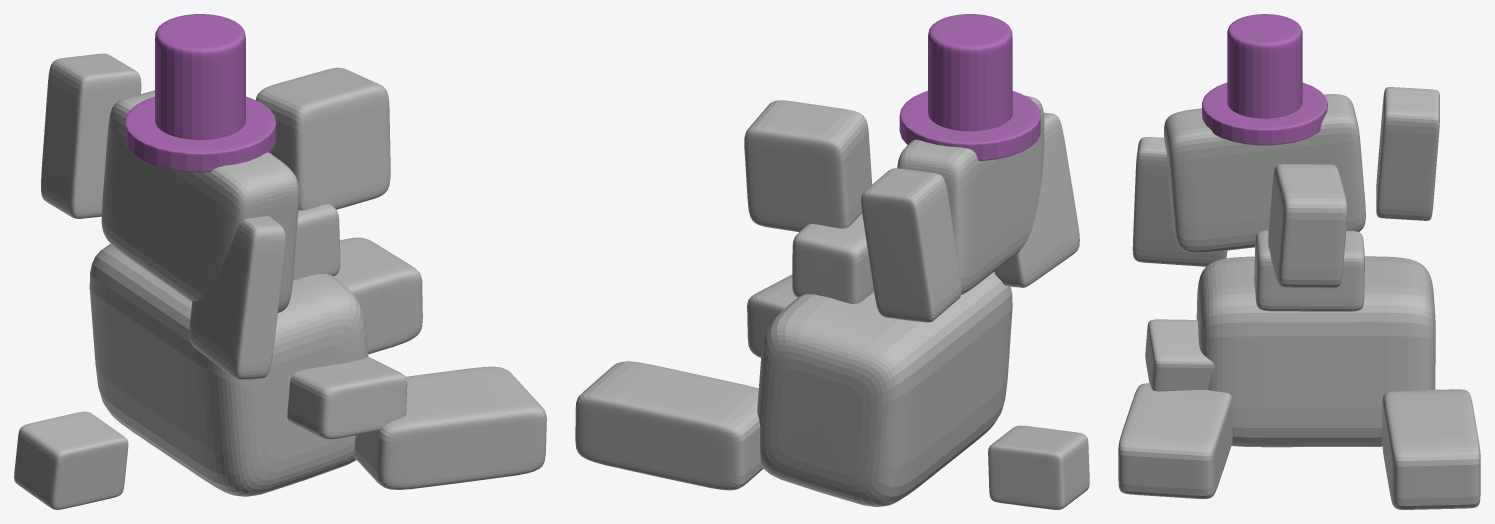
The model's file is edited_abstraction_categorized.glb.
3 views of the same model, side by side, from view 1: azimuth 30°, elevation 25°; view 2: azimuth 150°, elevation 25°; view 3: azimuth 270°, elevation 25° (orthographic). The views are drawn at different scales.
Visible parts, largest first — view 1: world; view 2: world; view 3: world.
Boxes of the visible parts, bbox=[...] form: world: bbox=[14, 14, 546, 509]; world: bbox=[575, 14, 1089, 509]; world: bbox=[1118, 14, 1480, 509].
Bounding box in the file's own units: 0.6792 × 0.666 × 0.5747.
